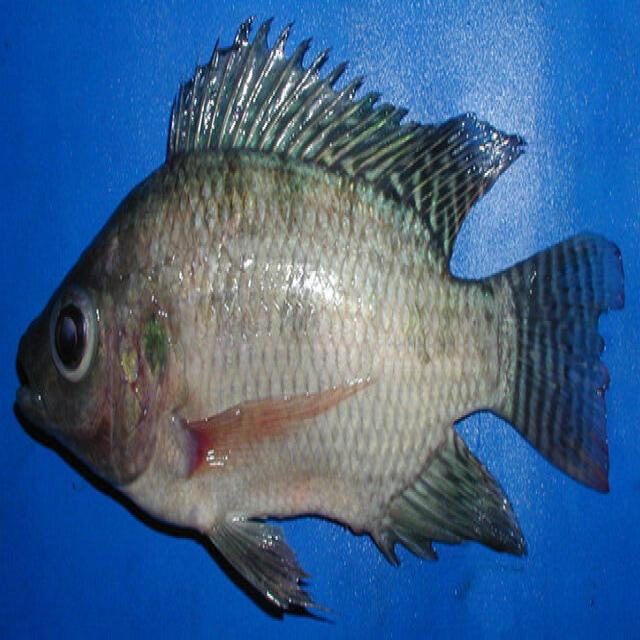ikan: (6, 12, 626, 628)
